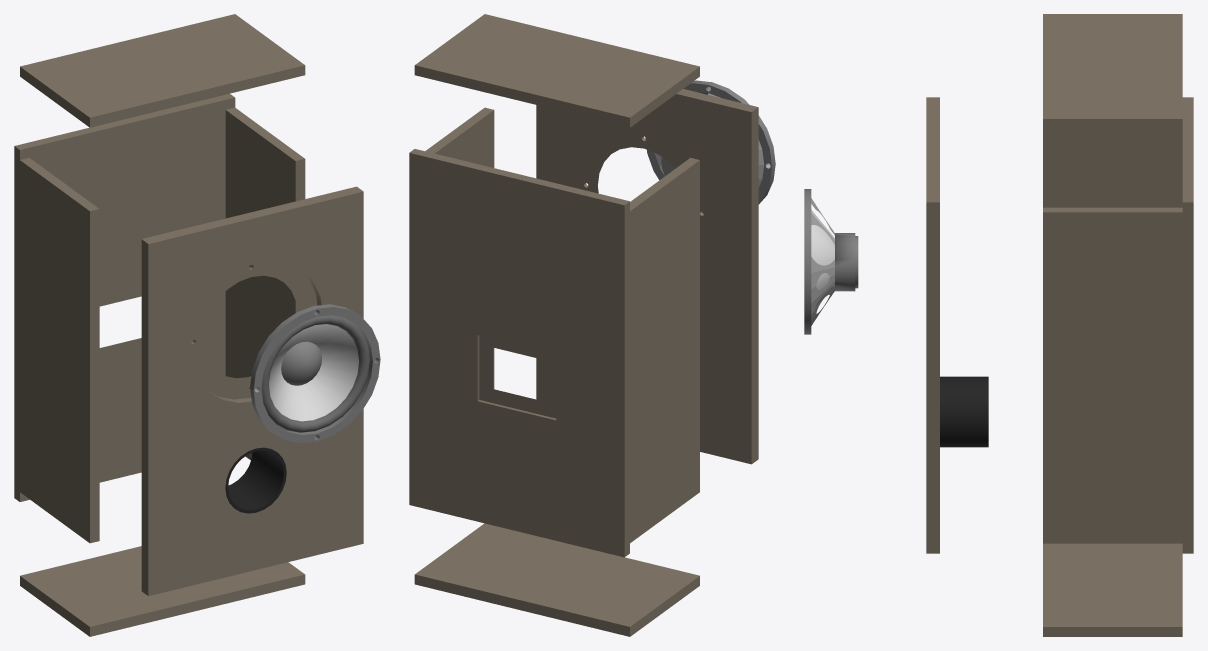
File: bass-reflex-loudspeaker.glb
3 renders of one model, left to right at view 1: azimuth 30°, elevation 25°; view 2: azimuth 150°, elevation 25°; view 3: azimuth 270°, elevation 25°, orthographic.
Parts seen in each view (by area): view 1: _(Loose Entity).001, C-Component#2, _(Loose Entity).002, adjustablevent; view 2: _(Loose Entity).001, C-Component#2; view 3: _(Loose Entity).001, C-Component#2, adjustablevent, _(Loose Entity).002.
Part boxes in pixels (x1,y1,x2,y2): _(Loose Entity).001: (14, 14, 363, 636); C-Component#2: (250, 304, 380, 443); _(Loose Entity).002: (229, 450, 276, 505); adjustablevent: (228, 451, 275, 503); _(Loose Entity).001: (409, 14, 758, 636); C-Component#2: (645, 80, 775, 213); _(Loose Entity).001: (926, 14, 1193, 636); C-Component#2: (804, 189, 858, 334); adjustablevent: (943, 376, 988, 447); _(Loose Entity).002: (940, 376, 984, 447).
Bounding box in the file's own units: 0.2697 × 0.6216 × 0.4236.
